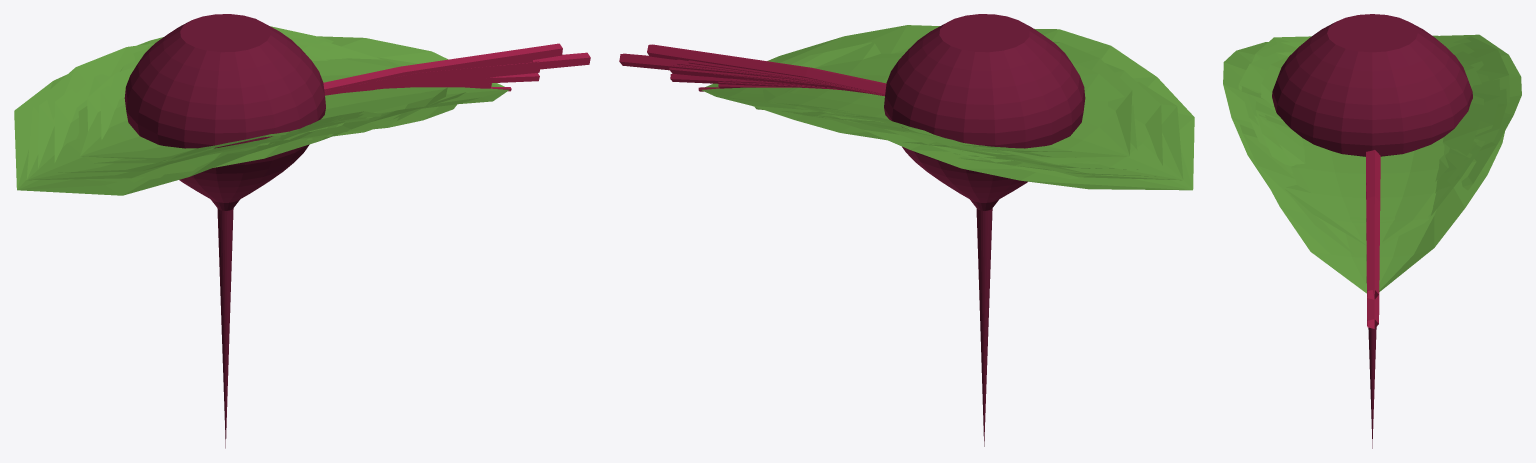
The model's file is beetroot_harvest_v12.articulated.glb.
3 views of the same model, side by side, from view 1: azimuth 30°, elevation 25°; view 2: azimuth 150°, elevation 25°; view 3: azimuth 270°, elevation 25° (orthographic).
Parts seen in each view (by area): view 1: root, leaf04_link2, leaf02_link2, leaf00_link2, leaf02_link0, leaf04_link0, leaf07_link2, leaf01_link2, leaf03_link2, leaf09_link2, leaf06_link2, leaf05_link2 (+2 smaller); view 2: root, leaf02_link2, leaf04_link2, leaf00_link2, leaf06_link2, leaf02_link0, leaf05_link2, leaf04_link0, leaf07_link2, leaf04_link1; view 3: root, leaf02_link2, leaf04_link2, leaf00_link2, leaf02_link0, leaf06_link2, leaf05_link2, leaf09_link2, leaf03_link2, leaf01_link2, leaf07_link2, leaf04_link0 (+1 smaller).
Boxes of the visible parts, x1,y1,x2,y2 form: root: (124, 14, 325, 448); leaf04_link2: (26, 36, 511, 180); leaf02_link2: (78, 44, 447, 160); leaf00_link2: (14, 26, 456, 195); leaf02_link0: (323, 43, 562, 91); leaf04_link0: (324, 52, 590, 95); leaf07_link2: (38, 36, 435, 182); leaf01_link2: (54, 44, 372, 162); leaf03_link2: (100, 39, 381, 153); leaf09_link2: (87, 53, 373, 161); leaf06_link2: (58, 47, 465, 172); leaf05_link2: (76, 115, 328, 163); root: (884, 14, 1085, 446); leaf02_link2: (763, 41, 1132, 164); leaf04_link2: (698, 25, 1183, 180); leaf00_link2: (755, 28, 1194, 190); leaf06_link2: (791, 52, 1162, 178); leaf02_link0: (647, 44, 886, 94); leaf05_link2: (816, 61, 1137, 164); leaf04_link0: (619, 53, 884, 96); leaf07_link2: (772, 43, 1155, 176); leaf04_link1: (670, 73, 796, 84); root: (1272, 14, 1472, 448); leaf02_link2: (1238, 52, 1506, 245); leaf04_link2: (1239, 35, 1509, 293); leaf00_link2: (1223, 34, 1521, 190); leaf02_link0: (1366, 150, 1380, 299); leaf06_link2: (1252, 42, 1499, 254); leaf05_link2: (1261, 57, 1483, 154); leaf09_link2: (1265, 58, 1481, 181); leaf03_link2: (1255, 93, 1472, 207); leaf01_link2: (1247, 42, 1478, 193); leaf07_link2: (1241, 37, 1485, 216); leaf04_link0: (1366, 172, 1380, 328).
Size of the model in its own units: 0.2272 by 0.158 by 0.103.
Materials: 1 (1 with a texture image).
